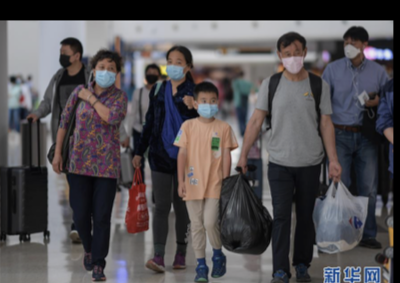with_mask: (282, 45, 305, 74), (94, 61, 117, 88), (166, 54, 186, 80), (197, 95, 218, 119), (343, 37, 361, 59), (59, 45, 75, 68), (145, 70, 160, 85)
